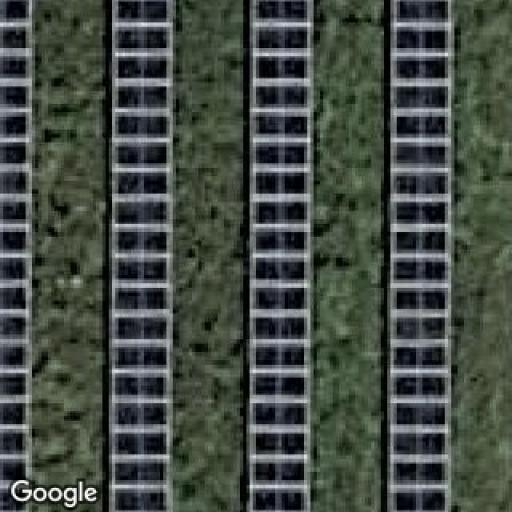solar-panel: (386, 0, 452, 512), (110, 0, 174, 512), (248, 0, 310, 512), (0, 0, 30, 512)
